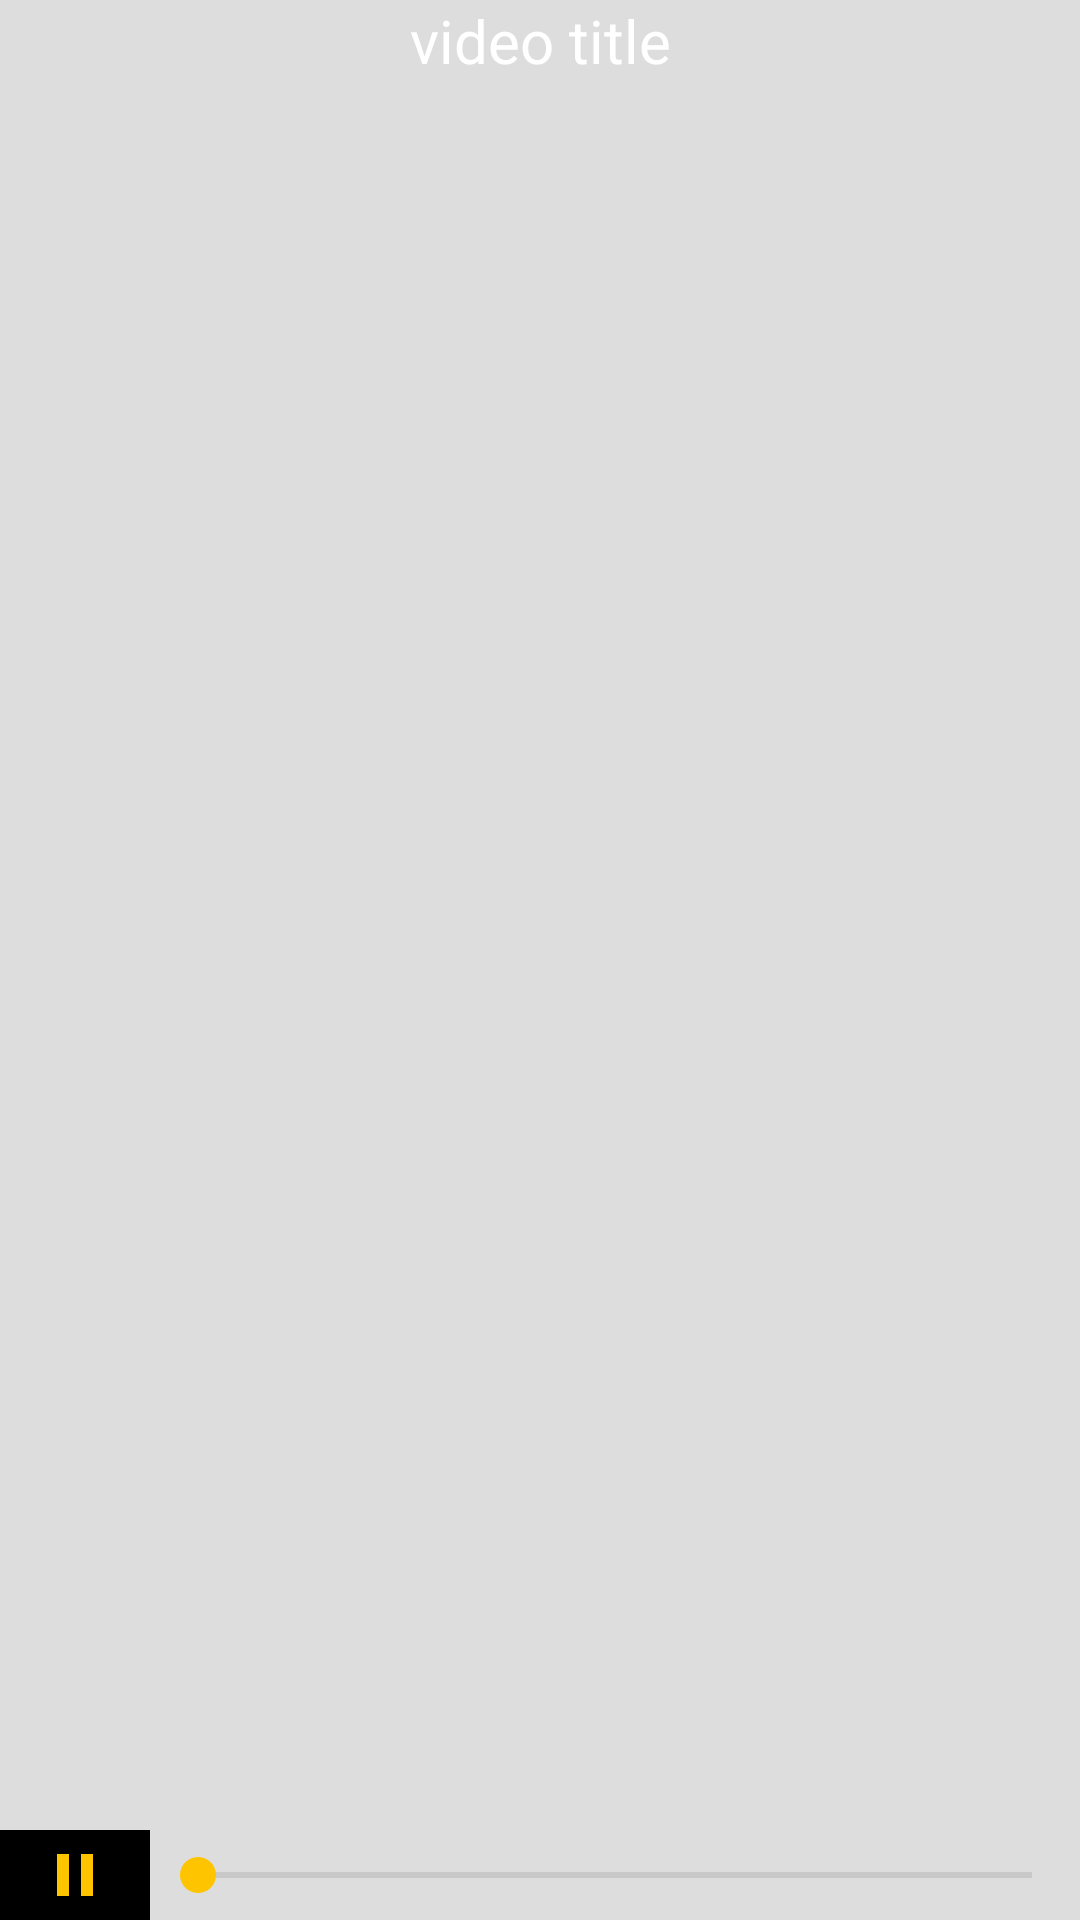

Named icons in this screenshot (1080px×1920px) and their bounding boxes, (x1, y1, x2, y2):
pause: (0, 1830, 150, 1920)
